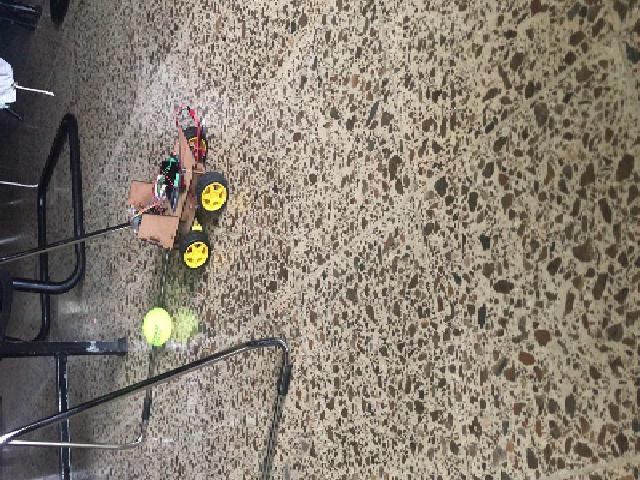Ball: (141, 308, 171, 346)
Robot: (131, 124, 229, 269)
